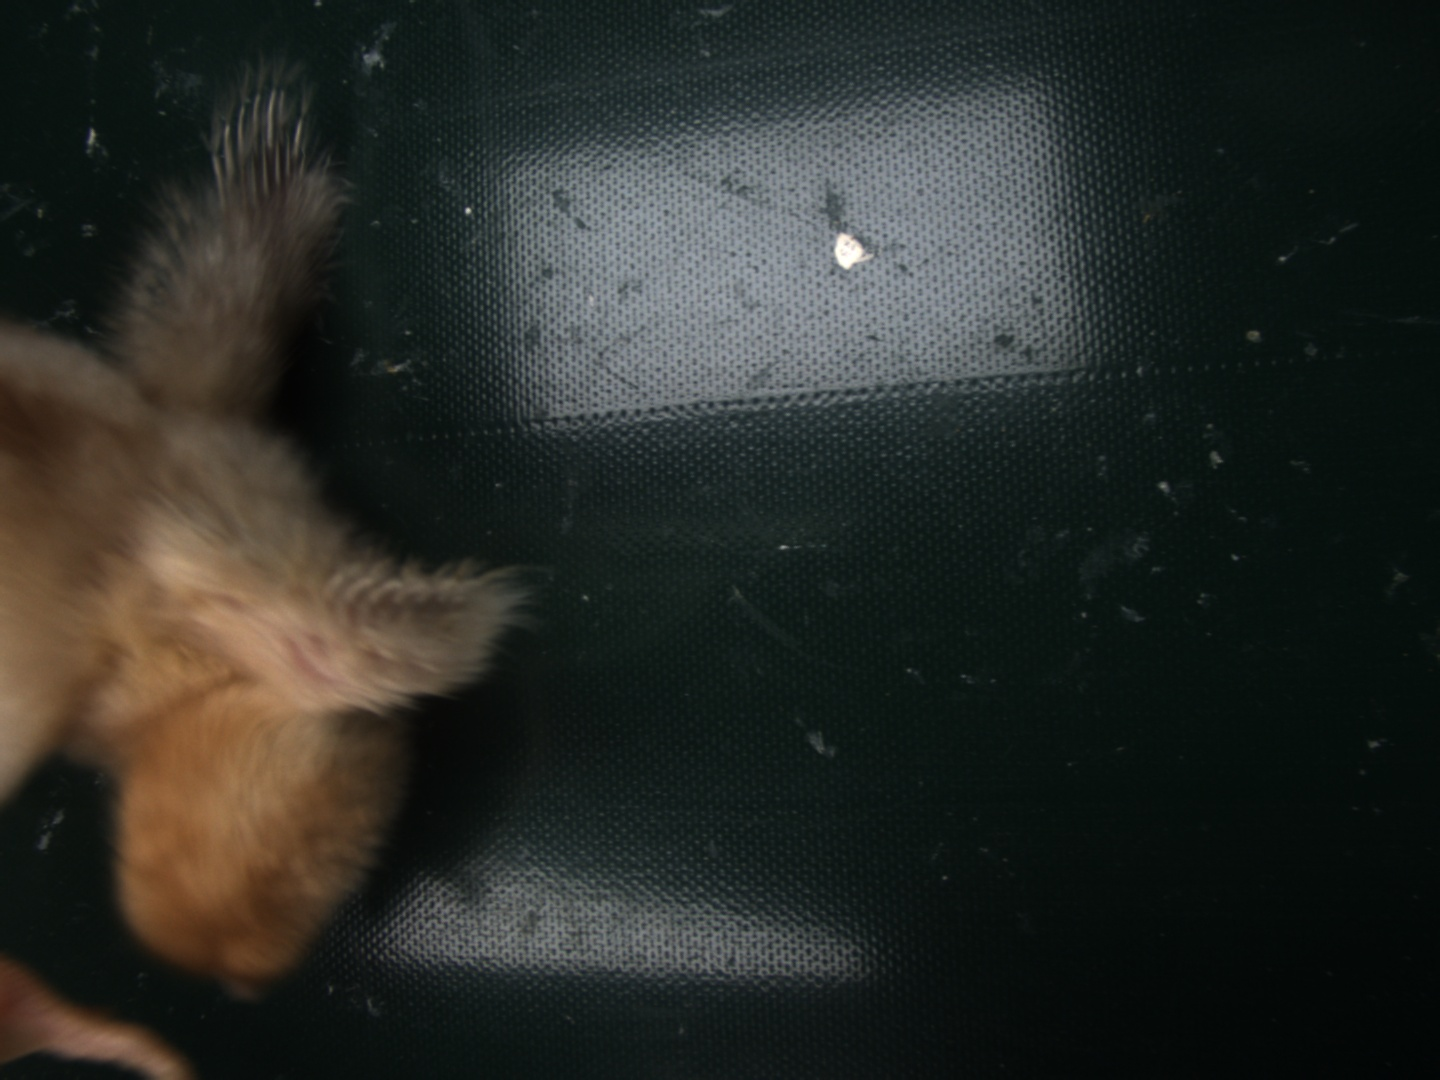female: (205, 85, 308, 212)
